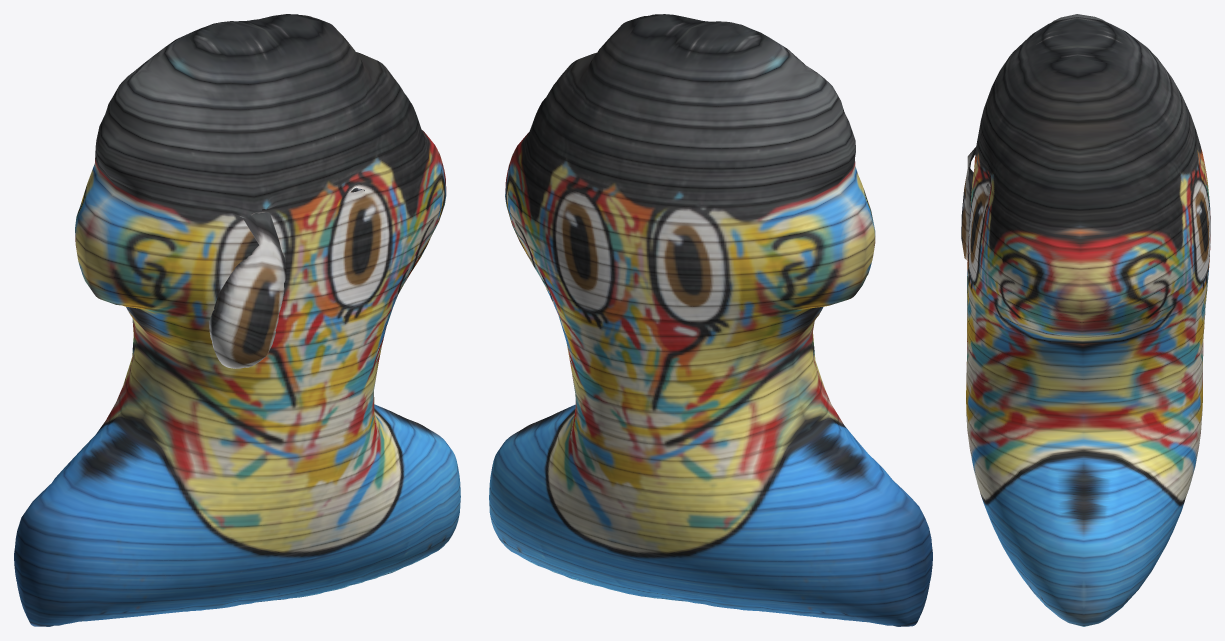
File: Pablo18.6a94c101.glb
The picture shows the model from 3 angles, left to right: view 1: azimuth 30°, elevation 25°; view 2: azimuth 150°, elevation 25°; view 3: azimuth 270°, elevation 25°; orthographic projection. The views are drawn at different scales.
Size of the model in its own units: 2.85 by 3.64 by 1.58.
Materials: 1 (1 with a texture image).
